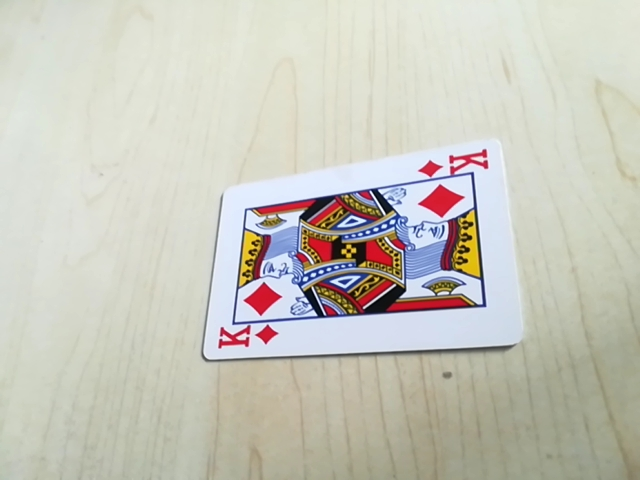fk k: (417, 148, 495, 181), (211, 321, 282, 356)
